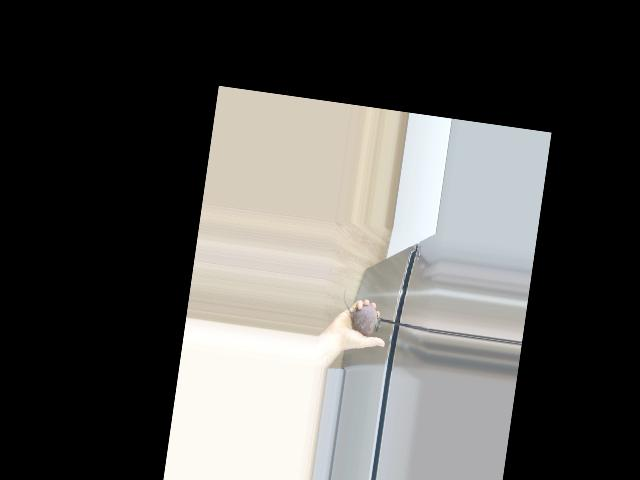beet: (338, 288, 384, 337)
